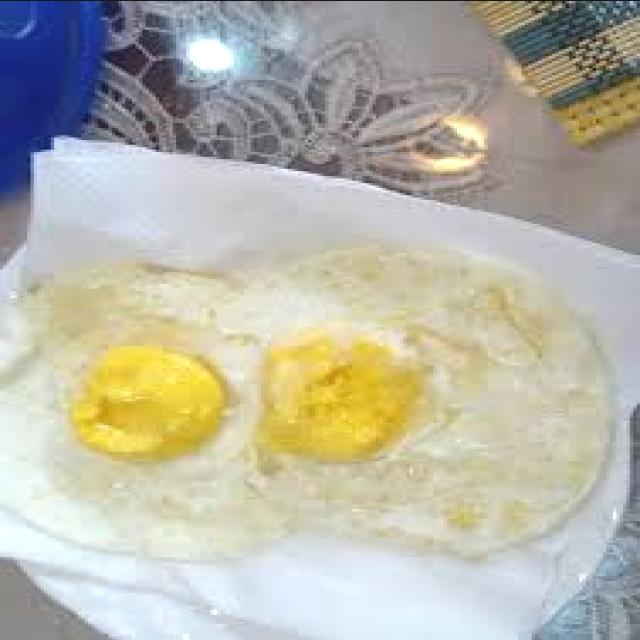telur ceplok: (254, 247, 610, 551), (0, 266, 281, 556)
